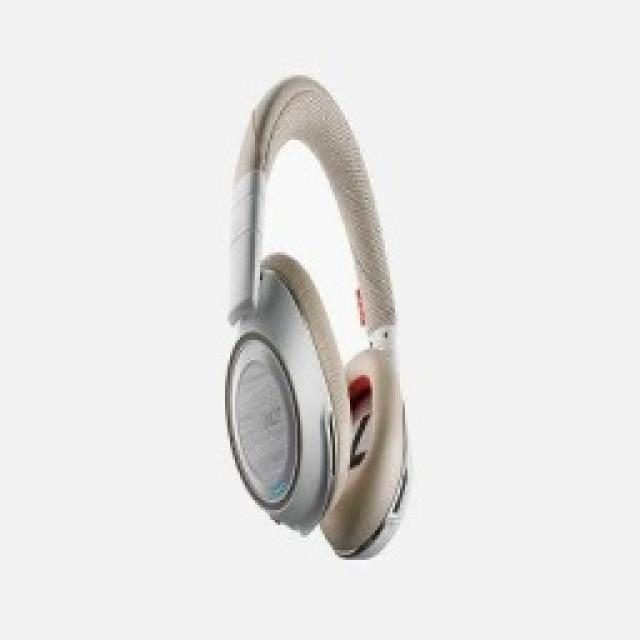headphones: (220, 72, 410, 560)
